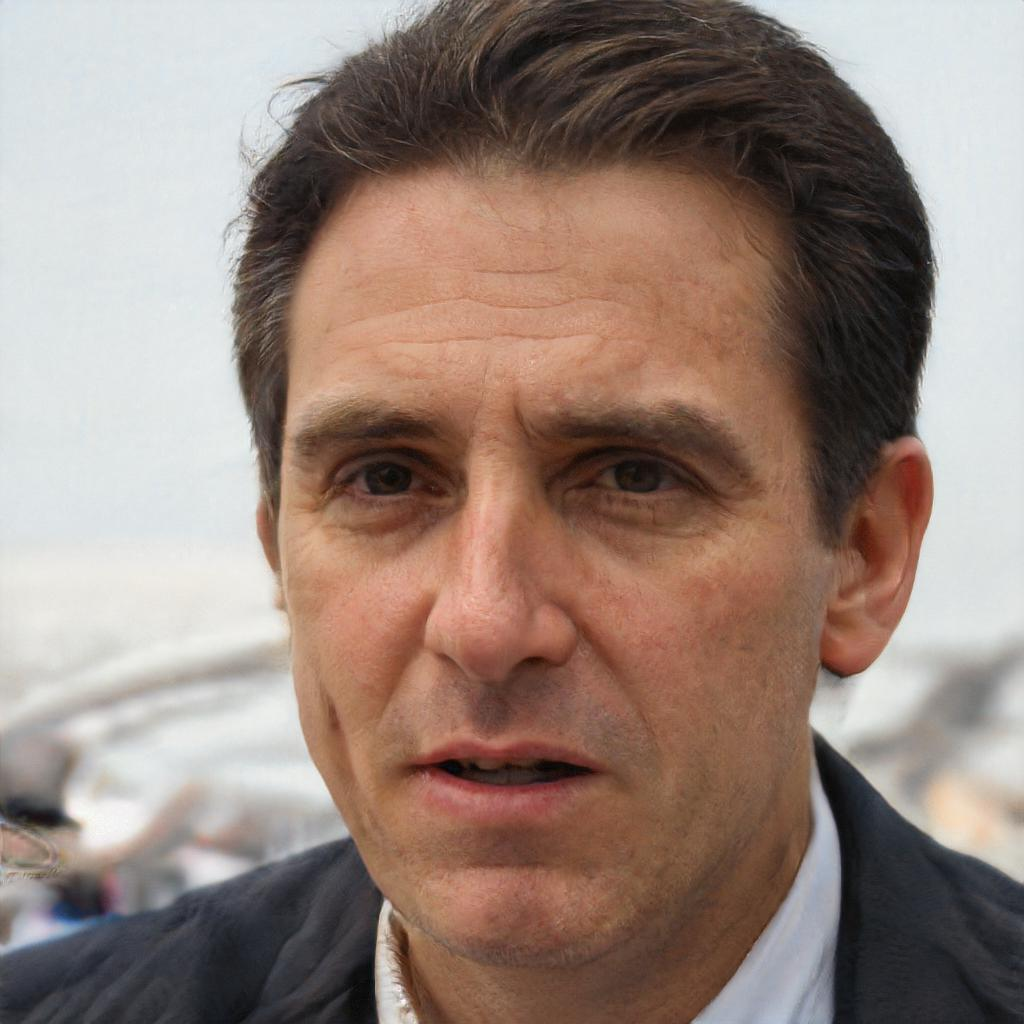face: (277, 168, 821, 968)
